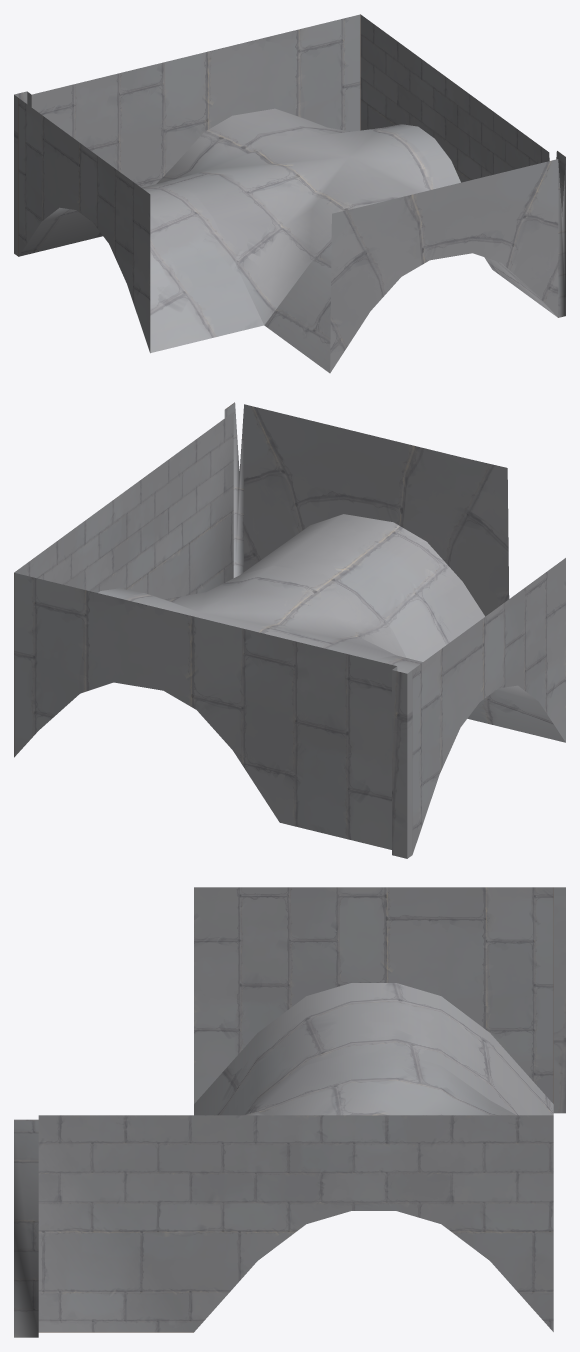
The model's file is SM_ArchRoof_Corner.fbx.
The picture shows the model from 3 angles, top to bottom: view 1: azimuth 30°, elevation 25°; view 2: azimuth 150°, elevation 25°; view 3: azimuth 270°, elevation 25°; orthographic projection. The views are drawn at different scales.
Parts seen in each view (by area): view 1: SM_ArchRoof_Corner; view 2: SM_ArchRoof_Corner; view 3: SM_ArchRoof_Corner.
Part boxes in pixels (box(x1,y1,x2,y2)): SM_ArchRoof_Corner: box(14, 14, 565, 373); SM_ArchRoof_Corner: box(14, 402, 565, 858); SM_ArchRoof_Corner: box(14, 887, 565, 1337).
Size of the model in its own units: 6.14 by 2.67 by 6.14.
